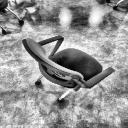chair_success: (20, 34, 119, 104)
